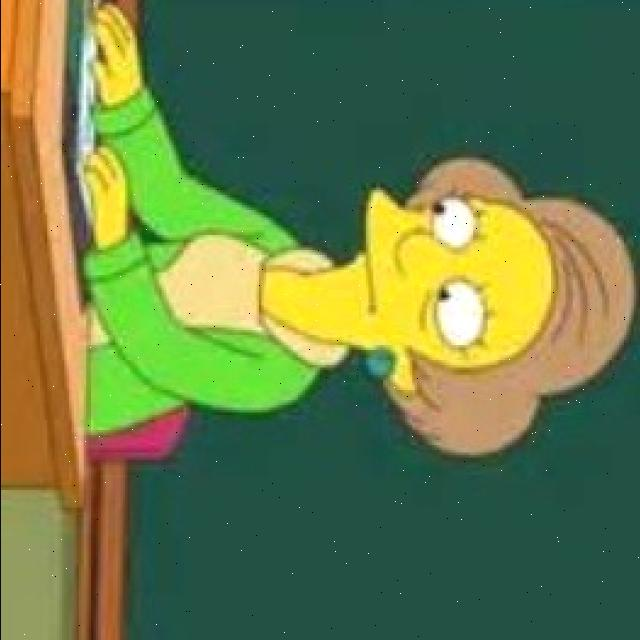Edna Krappel: (265, 150, 640, 465)
